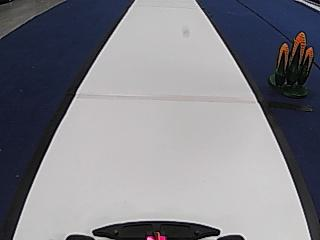corn: (266, 31, 315, 94)
